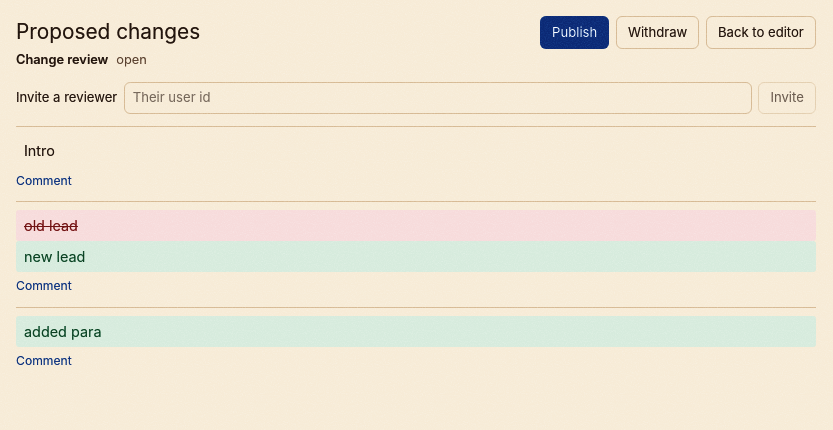
Test: ReviewView › says so when the text moved on mid-review, without overwriting
Click the button with test id "review-publish".
click(575, 32)  # box [540,16,610,49]
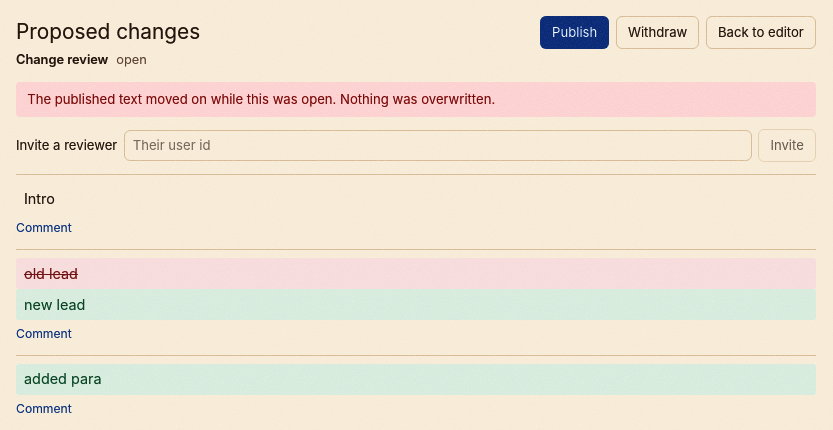
Expected: the text with test id "review-error" shows "moved on", [27,91,495,107]
